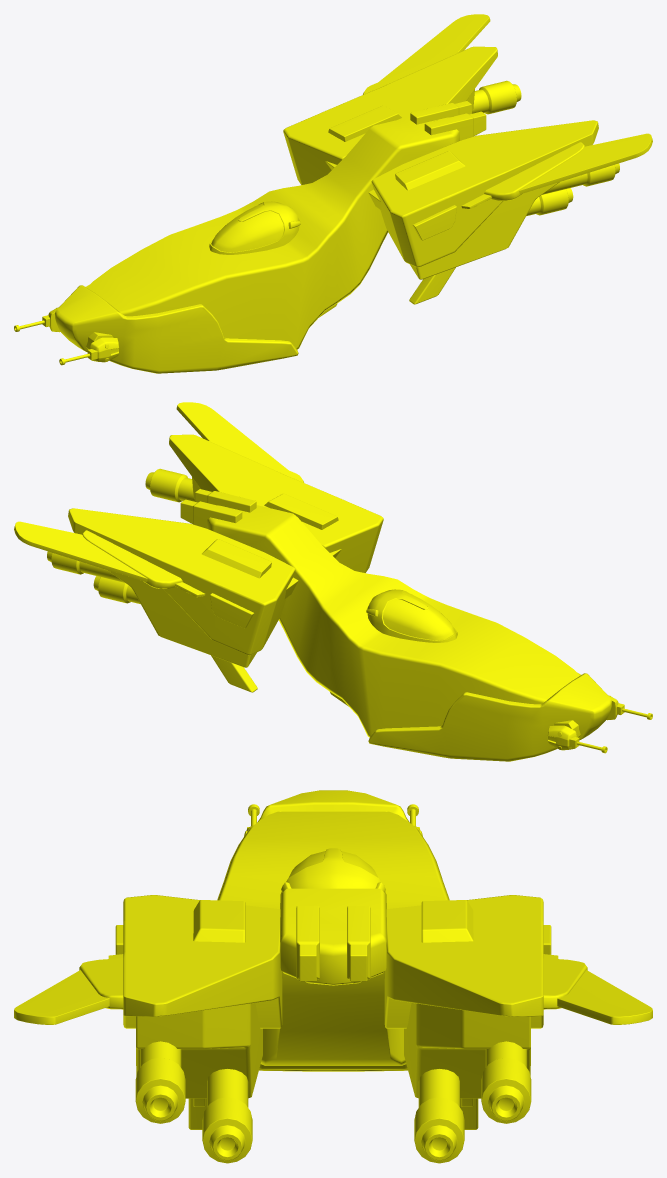
Rendered from frigate_04.gltf.
The picture shows the model from 3 angles, top to bottom: view 1: azimuth 30°, elevation 25°; view 2: azimuth 150°, elevation 25°; view 3: azimuth 270°, elevation 25°; orthographic projection. The views are drawn at different scales.
Visible parts, largest first — view 1: Frigate_4; view 2: Frigate_4; view 3: Frigate_4.
Boxes of the visible parts, x1,y1,x2,y2 form: Frigate_4: [14, 14, 652, 373]; Frigate_4: [14, 402, 652, 761]; Frigate_4: [14, 790, 652, 1163].
Size of the model in its own units: 43.42 by 14.26 by 25.74.
Materials: 1 (1 with a texture image).
